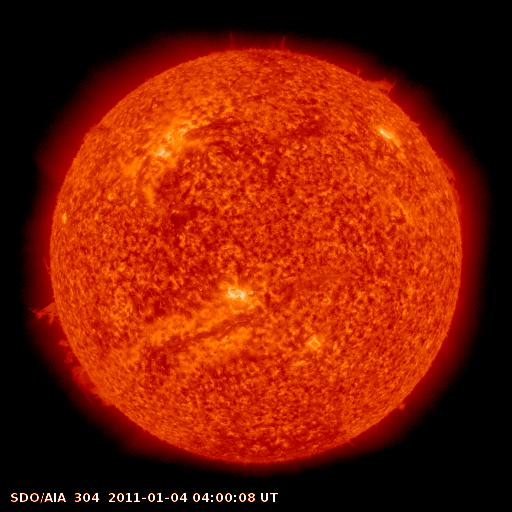prominence: (24, 291, 118, 411), (343, 53, 408, 102), (429, 146, 472, 215), (218, 23, 293, 55)
